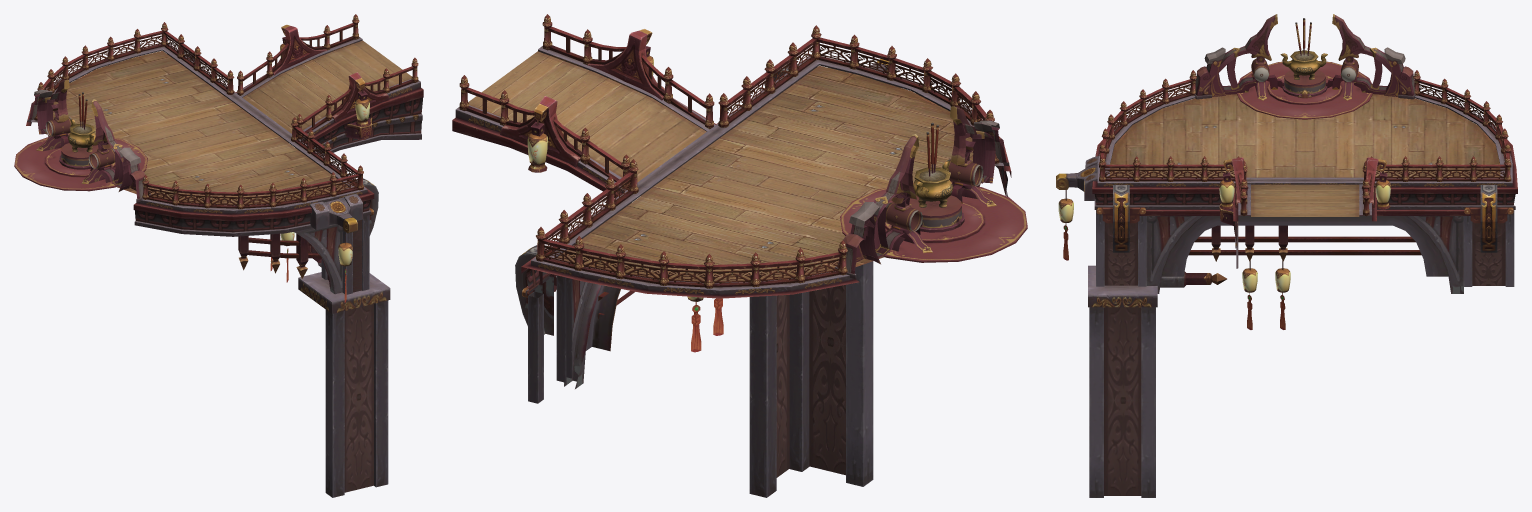
Rendered from cj_luoyang_guanjingtai02_56_05_8292out.fbx.
3 renders of one model, left to right at view 1: azimuth 30°, elevation 25°; view 2: azimuth 150°, elevation 25°; view 3: azimuth 270°, elevation 25°, orthographic. The views are drawn at different scales.
Parts seen in each view (by area): view 1: 0000_cj_luoyang_guanjingtai02, 0001_cj_luoyang_guanjingtai02, 0002_cj_luoyang_guanjingtai02; view 2: 0000_cj_luoyang_guanjingtai02, 0001_cj_luoyang_guanjingtai02, 0002_cj_luoyang_guanjingtai02; view 3: 0000_cj_luoyang_guanjingtai02, 0001_cj_luoyang_guanjingtai02, 0002_cj_luoyang_guanjingtai02.
Boxes of the visible parts, x1=… form: 0000_cj_luoyang_guanjingtai02: x1=26, y1=14, x2=423, y2=497; 0001_cj_luoyang_guanjingtai02: x1=47, y1=24, x2=389, y2=302; 0002_cj_luoyang_guanjingtai02: x1=14, y1=79, x2=151, y2=202; 0000_cj_luoyang_guanjingtai02: x1=452, y1=14, x2=1011, y2=497; 0001_cj_luoyang_guanjingtai02: x1=500, y1=29, x2=980, y2=388; 0002_cj_luoyang_guanjingtai02: x1=834, y1=106, x2=1027, y2=279; 0000_cj_luoyang_guanjingtai02: x1=1088, y1=70, x2=1517, y2=497; 0001_cj_luoyang_guanjingtai02: x1=1056, y1=94, x2=1513, y2=329; 0002_cj_luoyang_guanjingtai02: x1=1194, y1=14, x2=1415, y2=119.
Size of the model in its own units: 17.07 by 16.4 by 18.01.
